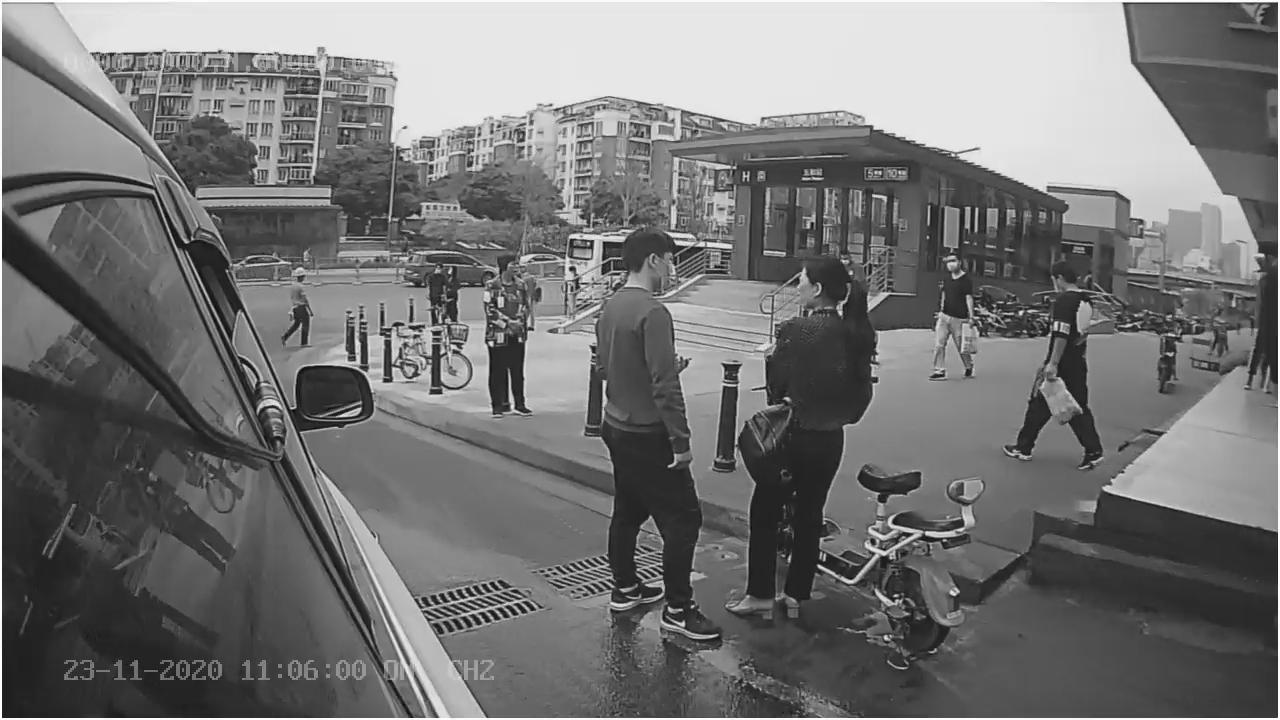person: (589, 222, 729, 660)
